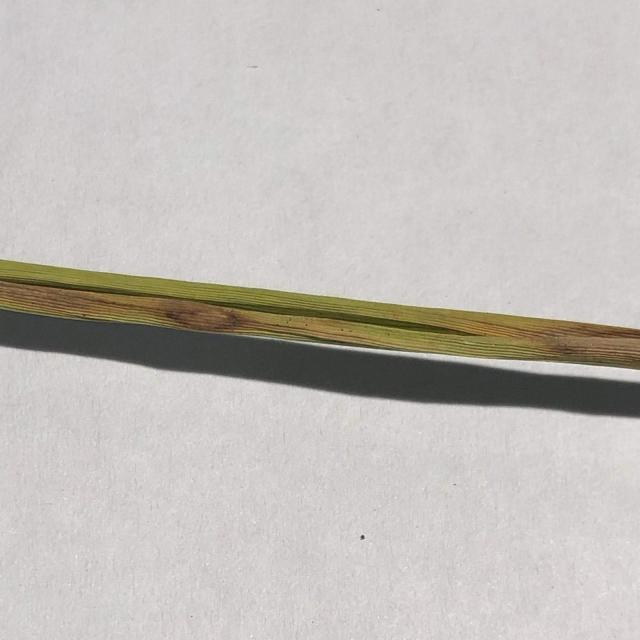Leaf blast: (0, 228, 636, 433)
